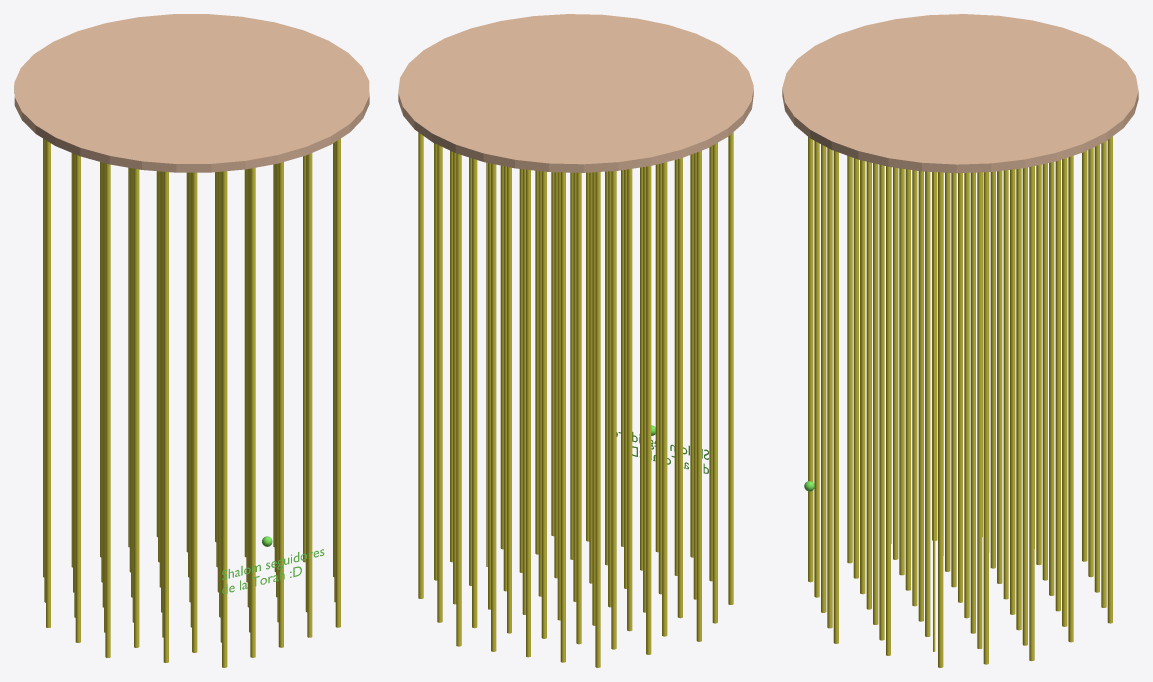
File: modelo.glb
3 renders of one model, left to right at view 1: azimuth 30°, elevation 25°; view 2: azimuth 150°, elevation 25°; view 3: azimuth 270°, elevation 25°, orthographic.
Visible parts, largest first — view 1: Circle, Cylinder.040, Cylinder.056, Cylinder.048, Cylinder.061, Cylinder.004, Cylinder.055, Cylinder.062, Cylinder.054, Cylinder.047, Cylinder.039, Cylinder.013 (+40 smaller); view 2: Circle, Cylinder.029, Cylinder.034, Cylinder.028, Cylinder.013, Cylinder.021, Cylinder.035, Cylinder.004, Cylinder.020, Cylinder.024, Cylinder.012, Cylinder.019 (+40 smaller); view 3: Circle, Cylinder.041, Cylinder.014, Cylinder.005, Cylinder.061, Cylinder.024, Cylinder.034, Cylinder.062, Cylinder.015, Cylinder.006, Cylinder.052, Cylinder.025 (+35 smaller).
Boxes of the visible parts, x1,y1,x2,y2 form: Circle: (14, 14, 369, 172); Cylinder.040: (105, 163, 110, 657); Cylinder.056: (222, 171, 227, 667); Cylinder.048: (163, 171, 168, 662); Cylinder.061: (335, 138, 340, 627); Cylinder.004: (75, 154, 80, 642); Cylinder.055: (250, 167, 255, 657); Cylinder.062: (307, 153, 312, 637); Cylinder.054: (278, 162, 283, 647); Cylinder.047: (192, 172, 197, 652); Cylinder.039: (134, 168, 139, 647); Cylinder.013: (46, 140, 50, 627); Circle: (398, 14, 753, 172); Cylinder.029: (595, 172, 600, 667); Cylinder.034: (456, 153, 461, 646); Cylinder.028: (560, 172, 565, 662); Cylinder.013: (696, 150, 701, 641); Cylinder.021: (646, 166, 651, 654); Cylinder.035: (491, 163, 496, 651); Cylinder.004: (712, 142, 717, 623); Cylinder.020: (611, 171, 616, 649); Cylinder.024: (437, 144, 442, 622); Cylinder.012: (662, 162, 667, 636); Cylinder.019: (576, 172, 581, 644); Circle: (782, 14, 1138, 173); Cylinder.041: (938, 172, 943, 667); Cylinder.014: (1029, 166, 1034, 661); Cylinder.005: (983, 172, 988, 664); Cylinder.061: (833, 151, 838, 643); Cylinder.024: (1068, 155, 1073, 642); Cylinder.034: (1107, 136, 1112, 623); Cylinder.062: (827, 148, 832, 628); Cylinder.015: (1022, 167, 1027, 645); Cylinder.006: (977, 172, 982, 648); Cylinder.052: (879, 164, 884, 640); Cylinder.025: (1062, 158, 1067, 626).
Bounding box in the file's own units: 7.69 × 12.2 × 7.69.
